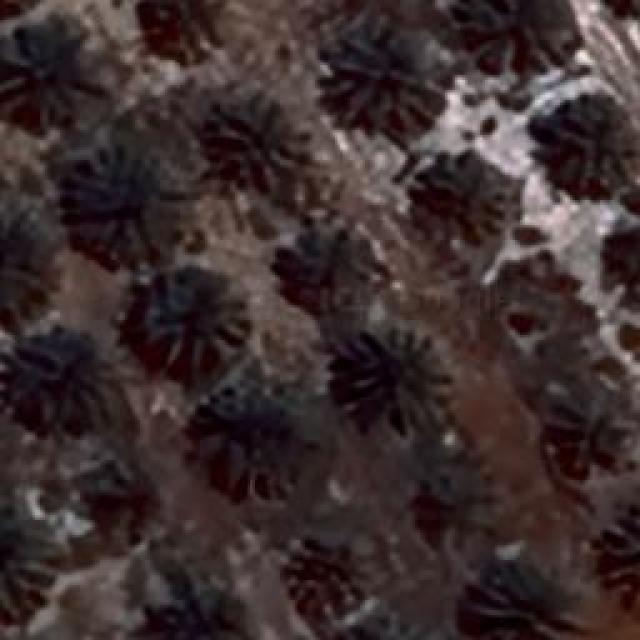PalmTree: (325, 20, 440, 130), (72, 158, 192, 262), (345, 320, 453, 430), (11, 335, 111, 435), (147, 275, 250, 370), (194, 384, 296, 478), (0, 30, 98, 125), (462, 0, 575, 72), (544, 102, 638, 186), (274, 229, 372, 309), (416, 152, 506, 238), (215, 98, 303, 180), (470, 567, 567, 640), (280, 531, 358, 614), (132, 0, 222, 70), (135, 589, 258, 640), (98, 466, 176, 544), (0, 500, 48, 618), (0, 205, 48, 313), (418, 468, 486, 542), (557, 406, 625, 469), (305, 608, 434, 640), (605, 504, 640, 616)
